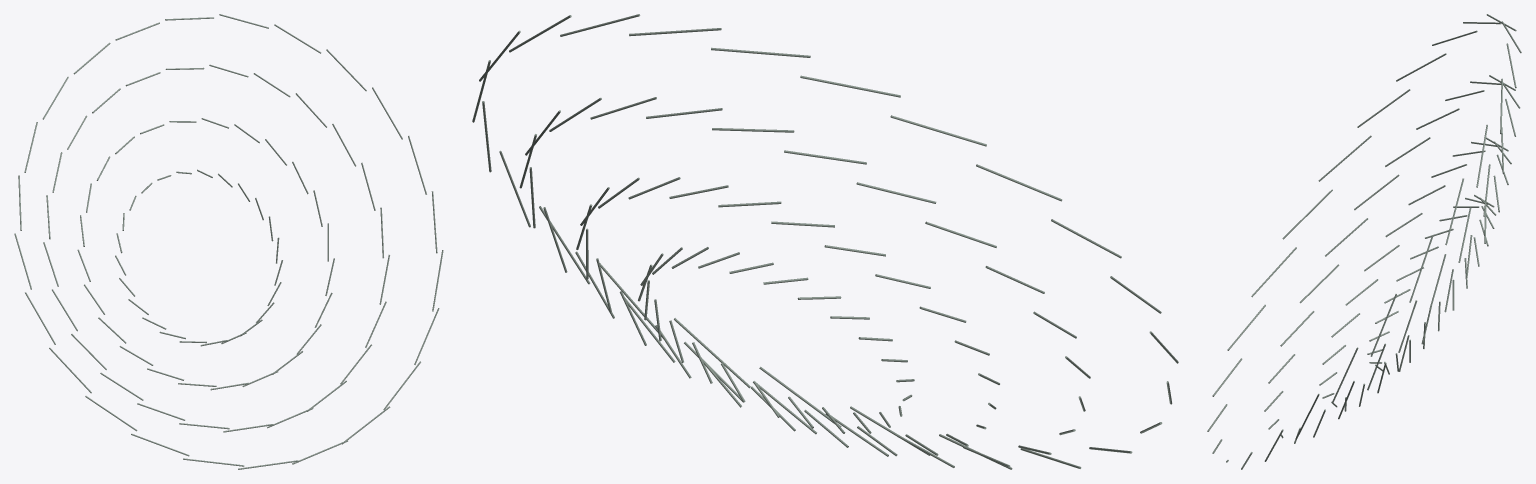
File: Cross_Braces.glb
3 views of the same model, side by side, from view 1: azimuth 30°, elevation 25°; view 2: azimuth 150°, elevation 25°; view 3: azimuth 270°, elevation 25° (orthographic). The views are drawn at different scales.
Visible parts, largest first — view 1: Cross_Braces; view 2: Cross_Braces; view 3: Cross_Braces.
Part boxes in pixels (x1,y1,x2,y2): Cross_Braces: [14, 14, 443, 469]; Cross_Braces: [472, 14, 1178, 469]; Cross_Braces: [1207, 14, 1521, 469].
Size of the model in its own units: 23.67 by 19.83 by 14.22.
1 material, 1 textured.
